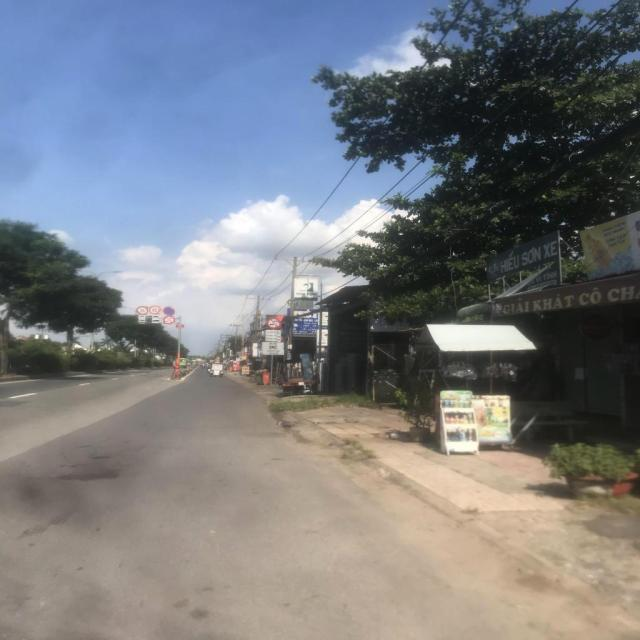cam_dung_xe_va_do_xe: (163, 306, 175, 316)
cam_o_to_tai_va_xe_khach: (266, 318, 282, 329)
cam_xe_2_banh_va_xe_3_banh_co_dong_co: (163, 316, 175, 324)
khac: (261, 343, 284, 355), (265, 330, 281, 342), (138, 320, 146, 324), (152, 319, 159, 323), (139, 316, 145, 320), (153, 315, 159, 319)
toc_do_toi_da_60: (150, 306, 162, 314)
toc_do_toi_da_80: (136, 306, 148, 315)
